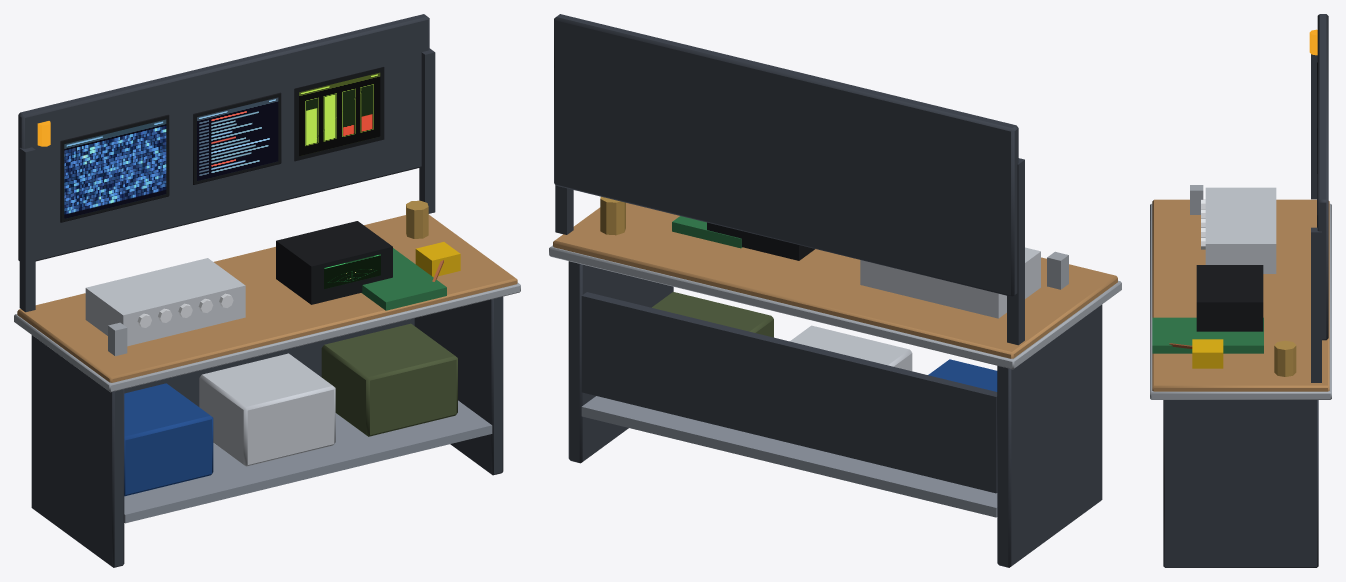
The model's file is hangartool_avionics_bench.glb.
The picture shows the model from 3 angles, left to right: view 1: azimuth 30°, elevation 25°; view 2: azimuth 150°, elevation 25°; view 3: azimuth 270°, elevation 25°; orthographic projection. The views are drawn at different scales.
Parts seen in each view (by area): view 1: hangartool_avionics_bench; view 2: hangartool_avionics_bench; view 3: hangartool_avionics_bench.
Boxes of the visible parts, box(x1,y1,x2,y2) form: hangartool_avionics_bench: box(14, 14, 520, 567); hangartool_avionics_bench: box(549, 14, 1121, 567); hangartool_avionics_bench: box(1150, 14, 1331, 567).
Bounding box in the file's own units: 2.02 × 1.85 × 0.82.
18 materials, 4 textured.
